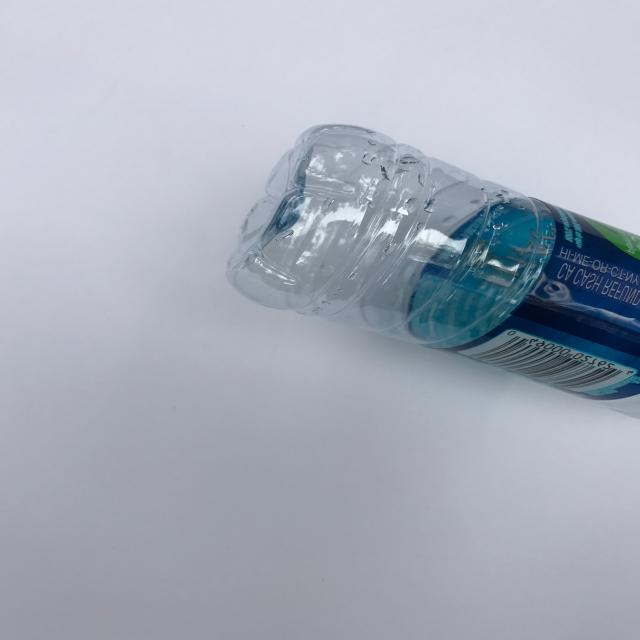plastic: (225, 122, 640, 419)
